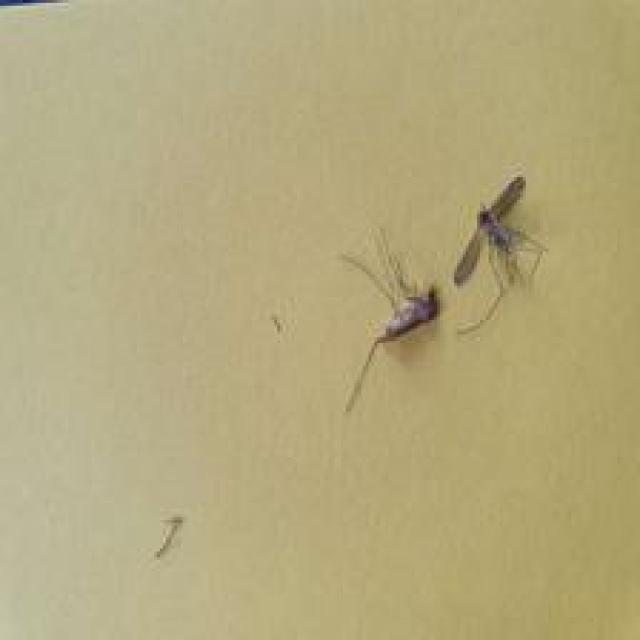Culex: (452, 174, 548, 334)
